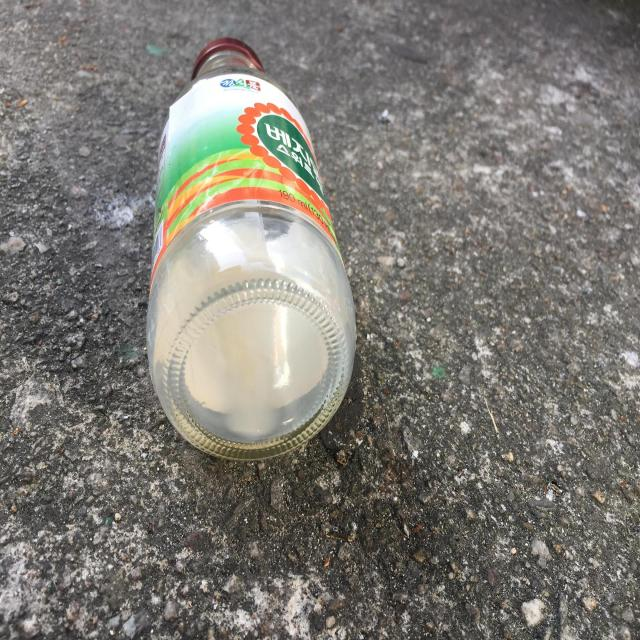glass: (147, 38, 356, 460)
